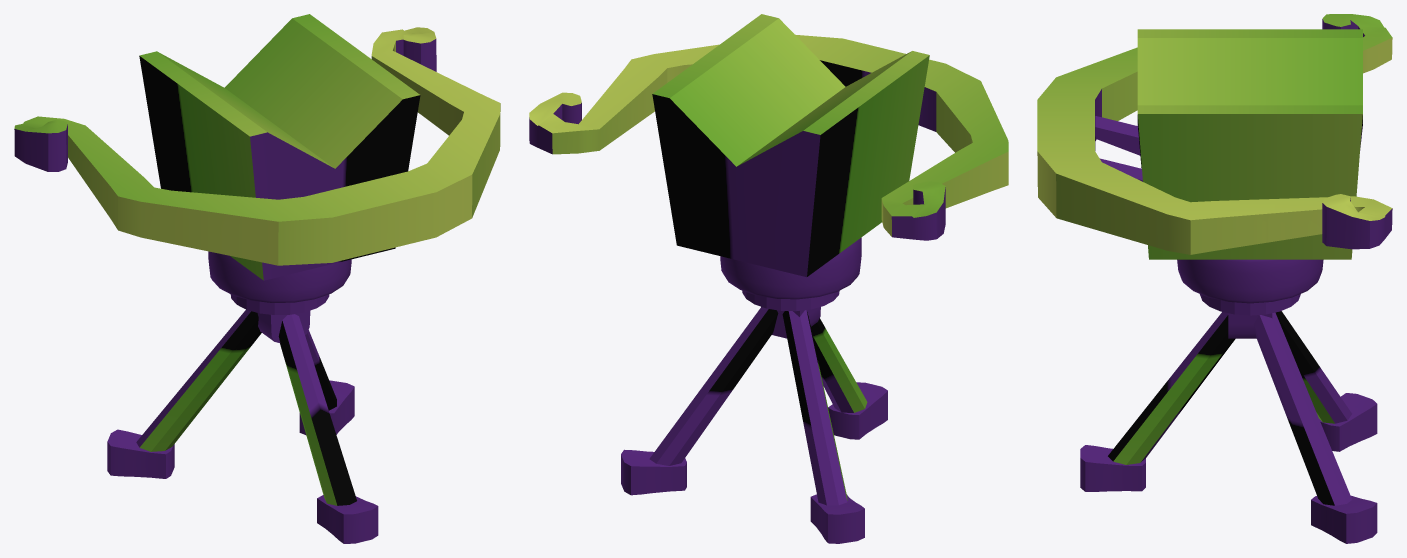
File: ArrowTrap.fbx
3 views of the same model, side by side, from view 1: azimuth 30°, elevation 25°; view 2: azimuth 150°, elevation 25°; view 3: azimuth 270°, elevation 25° (orthographic). The views are drawn at different scales.
Parts seen in each view (by area): view 1: ArrowTrap_Alpha_Geo; view 2: ArrowTrap_Alpha_Geo; view 3: ArrowTrap_Alpha_Geo.
Boxes of the visible parts, left/top/right/bottom form: ArrowTrap_Alpha_Geo: left=14, top=14, right=500, bottom=543; ArrowTrap_Alpha_Geo: left=529, top=14, right=1008, bottom=543; ArrowTrap_Alpha_Geo: left=1037, top=14, right=1392, bottom=543.
Bounding box in the file's own units: 2.39 × 2.24 × 1.75.
